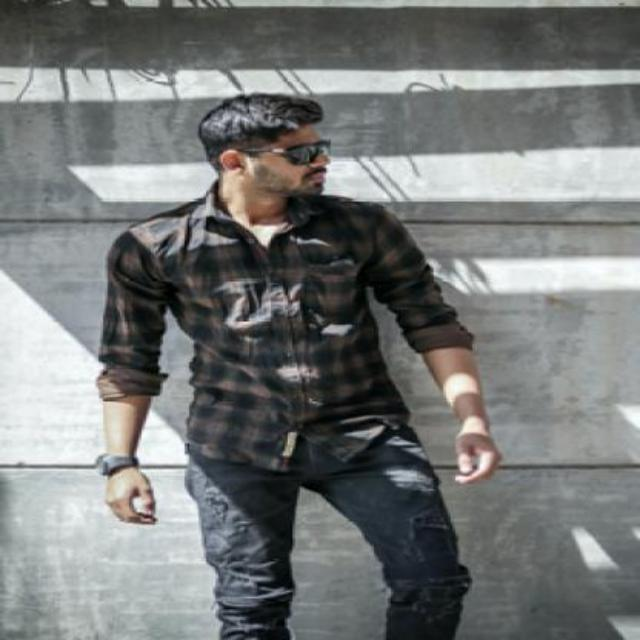glasses: (240, 138, 330, 164)
